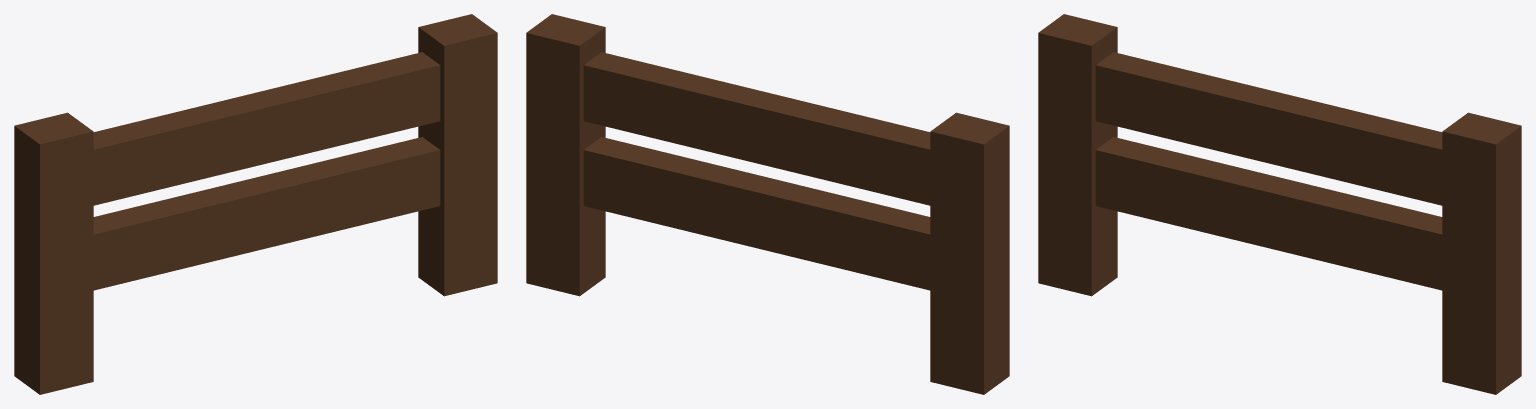
File: fence.fbx
3 renders of one model, left to right at view 1: azimuth 30°, elevation 25°; view 2: azimuth 150°, elevation 25°; view 3: azimuth 330°, elevation 25°, orthographic.
Parts seen in each view (by area): view 1: Cube.003; view 2: Cube.003; view 3: Cube.003.
Part boxes in pixels (x1,y1,x2,y2): Cube.003: (14, 14, 497, 394); Cube.003: (526, 14, 1009, 394); Cube.003: (1038, 14, 1521, 394).
Bounding box in the file's own units: 566 × 296 × 55.16.
